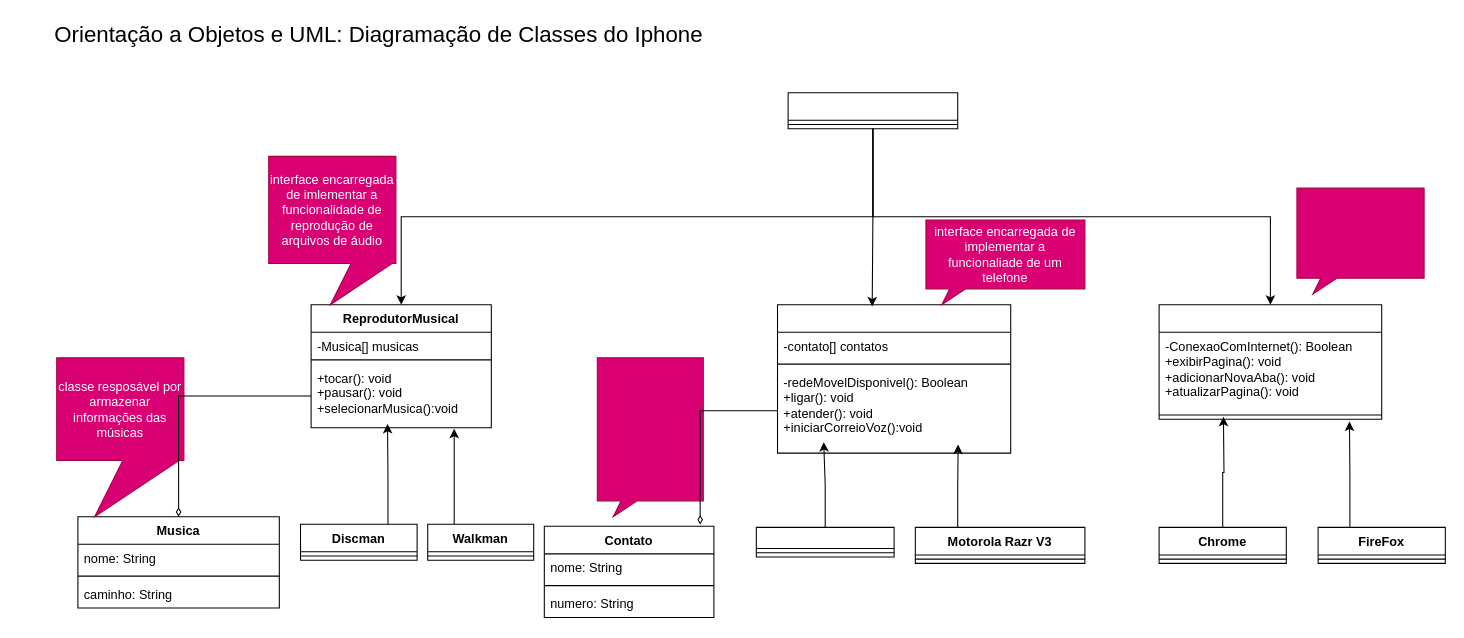
The diagram is 1464 pixels wide and 638 high, and some of its shapes have lost their labels. Each missing label, with the box of its shape:
AparelhoTelefonico: (776, 304, 1011, 453)
classe responsável por armazenar informações de contato: (596, 357, 703, 517)
interface encarregada de implementar a funcionalidade de um navegador: (1296, 187, 1424, 294)
NavegadorInternet: (1158, 304, 1382, 419)
Nokia 3310: (755, 526, 894, 557)
Phone: (787, 92, 958, 129)
